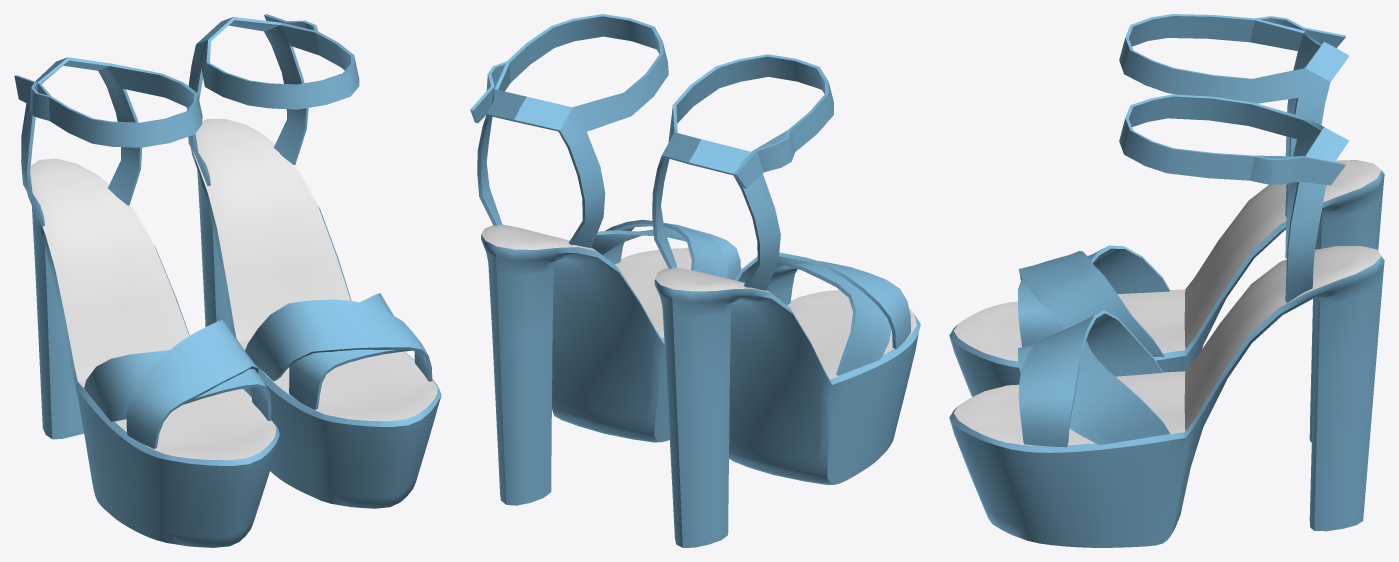
3 views of the same model, side by side, from view 1: azimuth 30°, elevation 25°; view 2: azimuth 150°, elevation 25°; view 3: azimuth 270°, elevation 25° (orthographic). The views are drawn at different scales.
Parts seen in each view (by area): view 1: taban.001, taban, ön.001, ön, bilek.001, bilek; view 2: taban.001, taban, bilek, bilek.001, ön.001, ön; view 3: taban, taban.001, bilek, ön, bilek.001, ön.001.
Part boxes in pixels (left/top/right/bottom): taban.001: left=27, top=158, right=279, bottom=547; taban: left=191, top=119, right=441, bottom=508; ön.001: left=84, top=320, right=271, bottom=448; ön: left=245, top=293, right=432, bottom=409; bilek.001: left=14, top=57, right=202, bottom=226; bilek: left=187, top=14, right=359, bottom=185; taban.001: left=654, top=267, right=920, bottom=547; taban: left=481, top=224, right=741, bottom=505; bilek: left=470, top=14, right=668, bottom=248; bilek.001: left=652, top=54, right=833, bottom=290; ön.001: left=735, top=252, right=910, bottom=375; ön: left=592, top=219, right=740, bottom=280; taban: left=949, top=246, right=1384, bottom=547; taban.001: left=949, top=160, right=1384, bottom=441; bilek: left=1119, top=94, right=1349, bottom=302; ön: left=1018, top=310, right=1169, bottom=447; bilek.001: left=1119, top=14, right=1349, bottom=216; ön.001: left=1018, top=245, right=1170, bottom=356.
Size of the model in its own units: 156 by 190 by 187.
